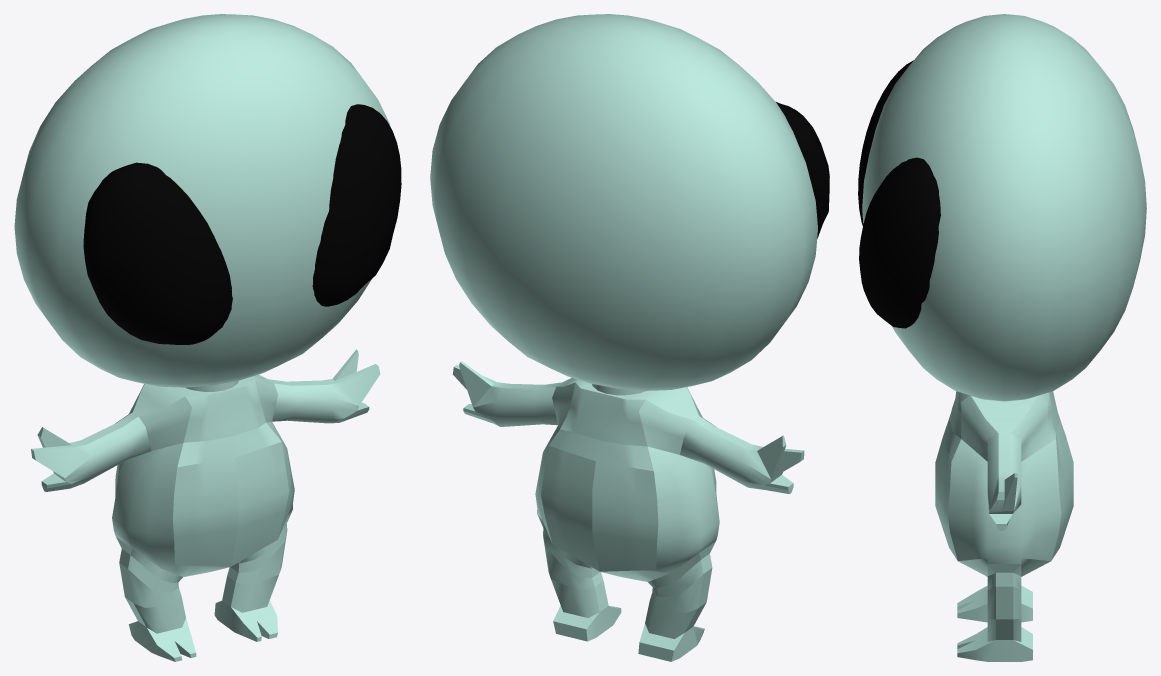
File: blue.fbx
The picture shows the model from 3 angles, left to right: view 1: azimuth 30°, elevation 25°; view 2: azimuth 150°, elevation 25°; view 3: azimuth 270°, elevation 25°; orthographic projection.
Visible parts, largest first — view 1: ailean1:polySurface3; view 2: ailean1:polySurface3; view 3: ailean1:polySurface3.
Boxes of the visible parts, left/top/right/bottom form: ailean1:polySurface3: left=14, top=14, right=401, bottom=661; ailean1:polySurface3: left=430, top=14, right=829, bottom=661; ailean1:polySurface3: left=858, top=14, right=1146, bottom=661.
Size of the model in its own units: 8.68 by 14.01 by 6.11.
